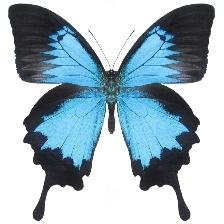butterfly: (9, 4, 215, 221)
